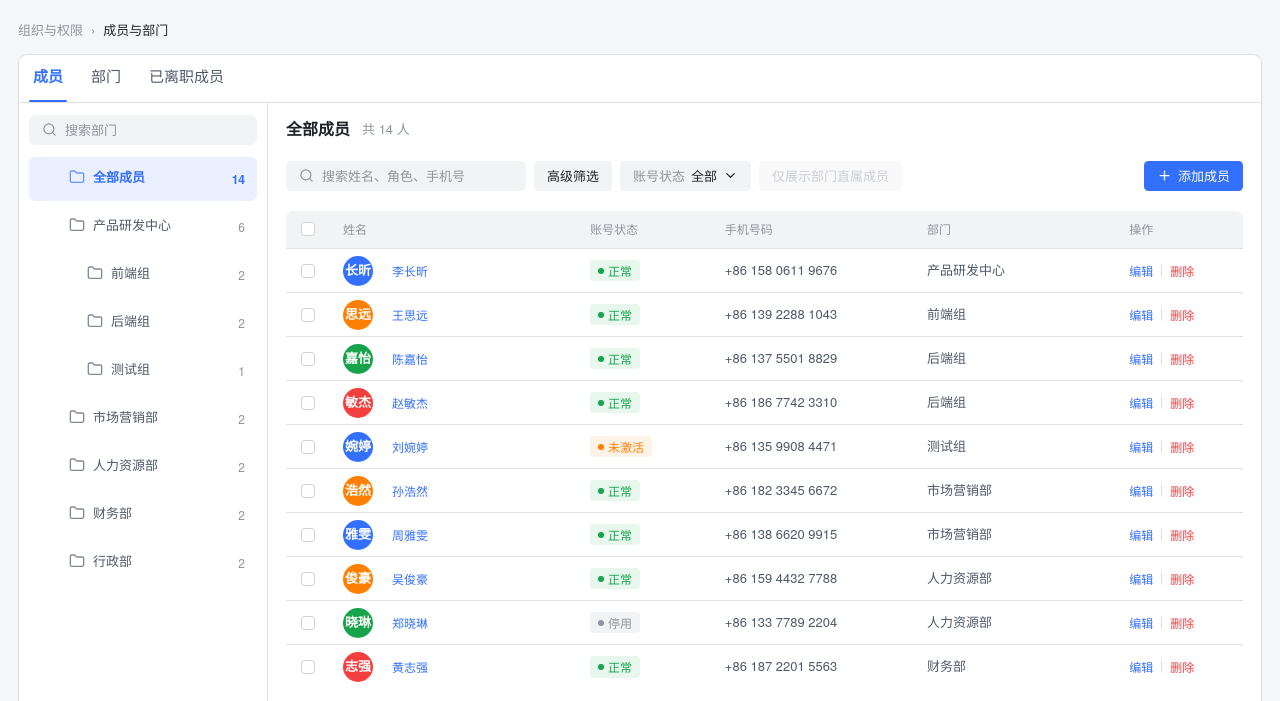
Test case: batch disable clears member table selection after mutation succeeds
Check: the text "李长昕" is shown, box x1=392 y1=262 x2=428 y2=278
Click the checkbox named "选择李长昕". click: point(308, 270)
box: x1=302 y1=264 x2=316 y2=278
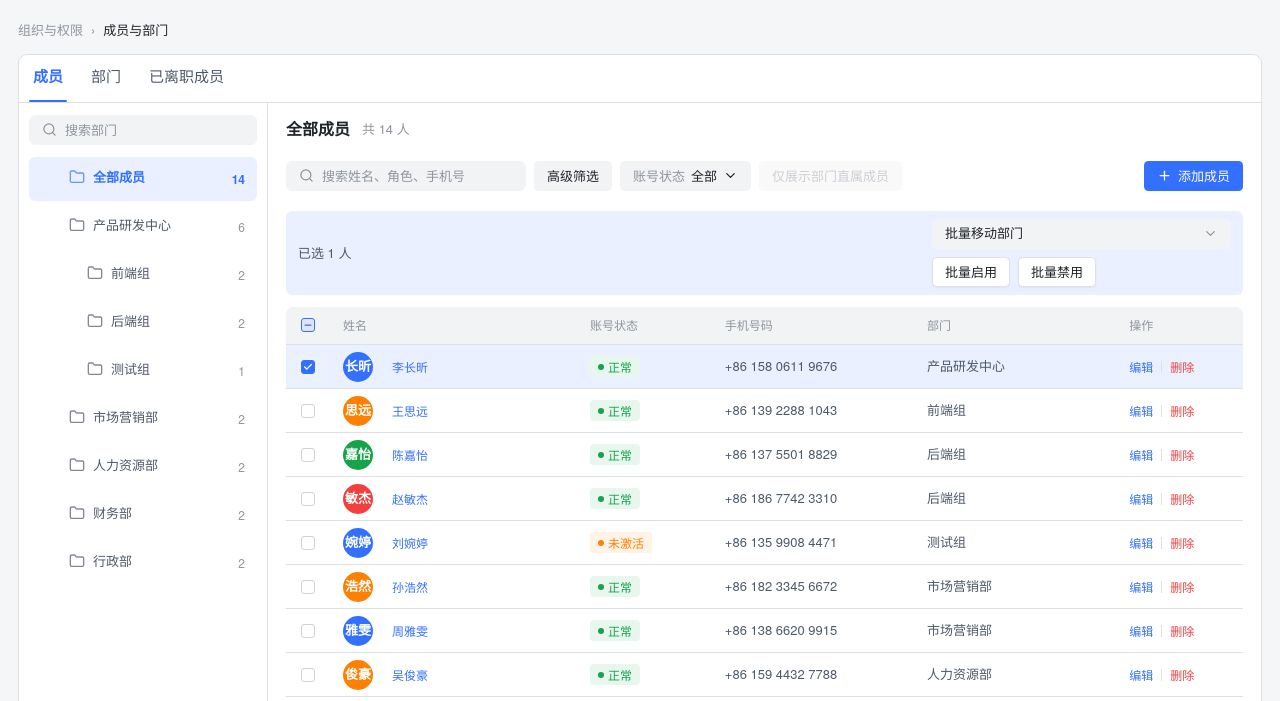
Check: the text "已选 1 人" is shown, box x1=298 y1=243 x2=352 y2=262
Click the button "批量禁用". click: point(1057, 272)
box: x1=1018 y1=256 x2=1096 y2=286
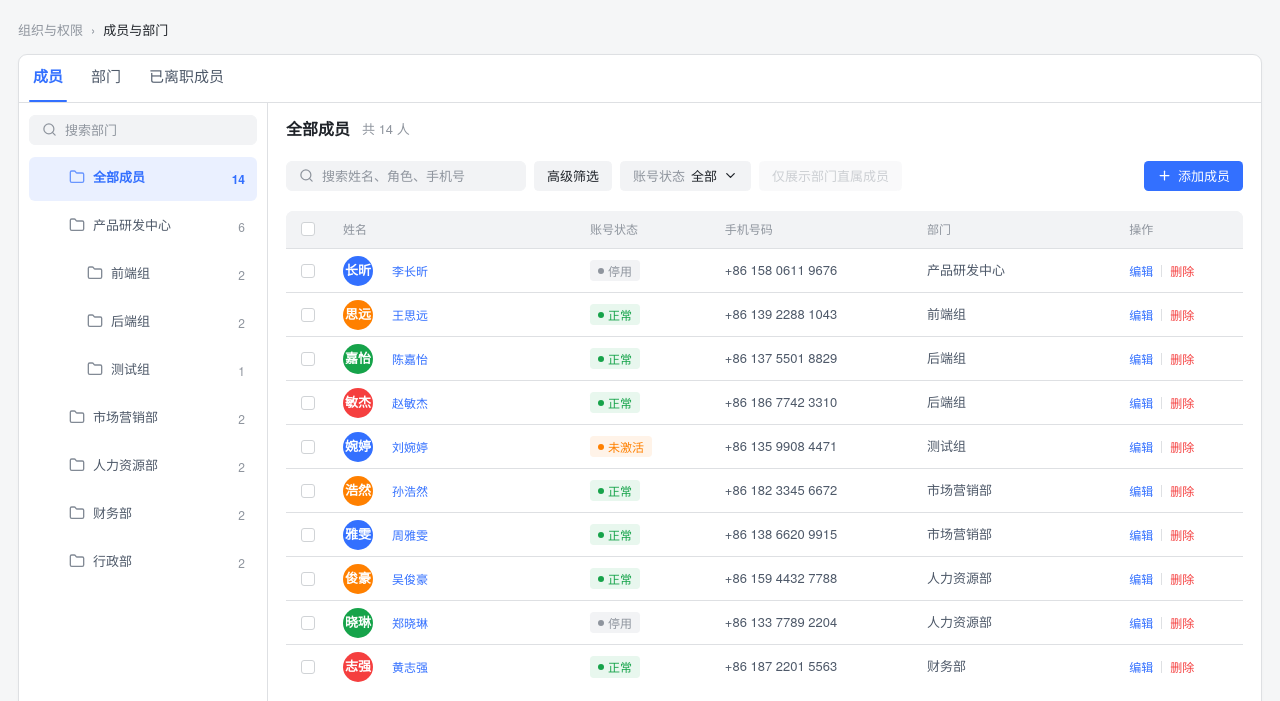
Check: the text "已选 1 人" is gone
Check: the button "批量禁用" is gone
